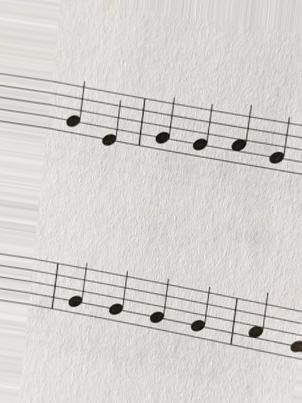note: (188, 101, 215, 171), (153, 94, 178, 163), (146, 271, 171, 340), (100, 86, 125, 155), (246, 289, 272, 355), (65, 75, 89, 143), (229, 102, 253, 170), (267, 115, 291, 179), (63, 261, 90, 317), (189, 282, 213, 345), (106, 266, 128, 333)
